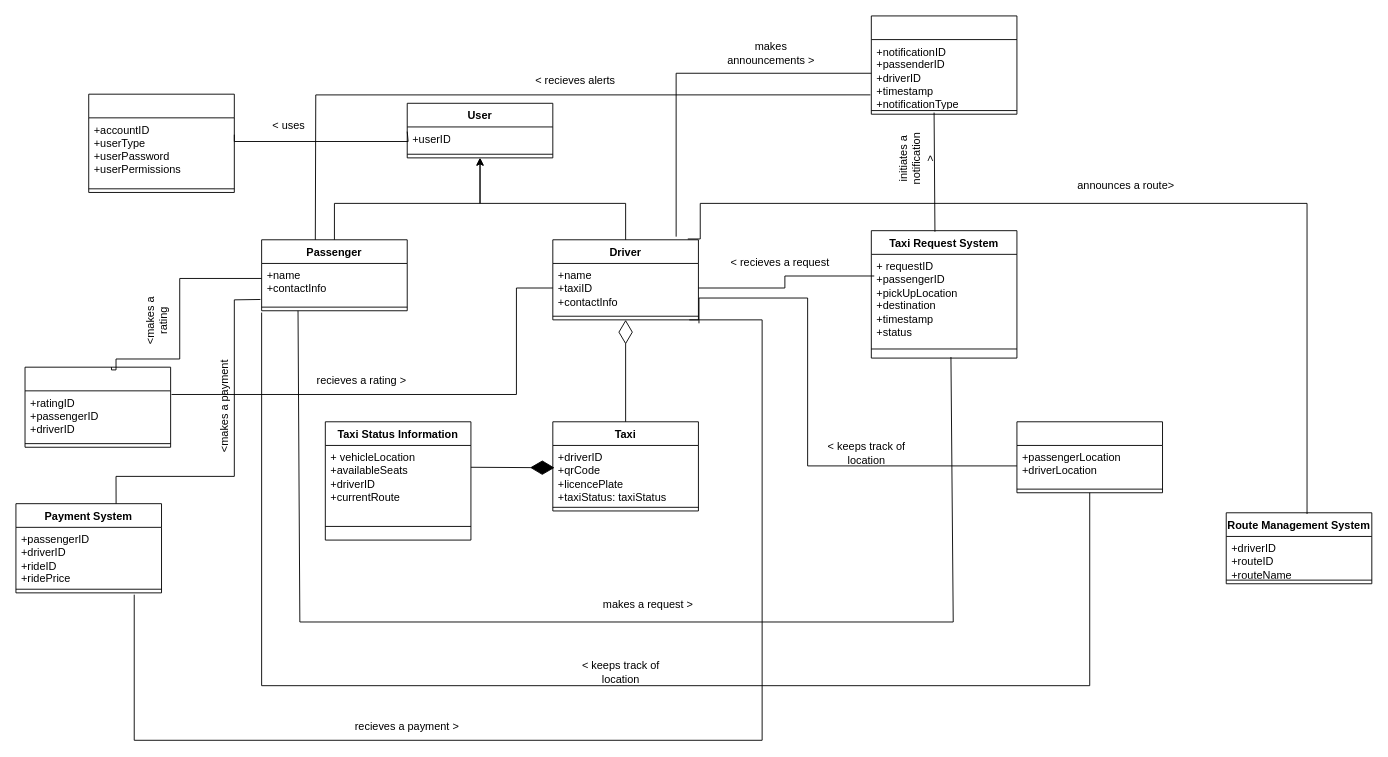
Image size: 1388x757. Some labels were removed from this diagram. The box of each missing label's shape, as (x1, y1, x2, y2) in pixels:
Location Services: (1016, 421, 1163, 493)
Notification System: (870, 15, 1017, 114)
Rating System: (24, 366, 171, 447)
User Account Manager: (88, 93, 234, 192)
